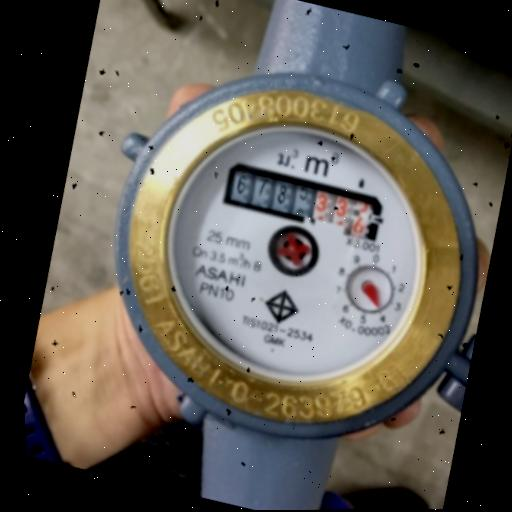3: (329, 195, 353, 227), (310, 191, 333, 222)
5: (291, 184, 313, 216)
6: (347, 199, 375, 240), (228, 170, 253, 203)
7: (248, 175, 272, 208)
8: (270, 180, 293, 213)
border_water_meter_number: (219, 159, 388, 244)
